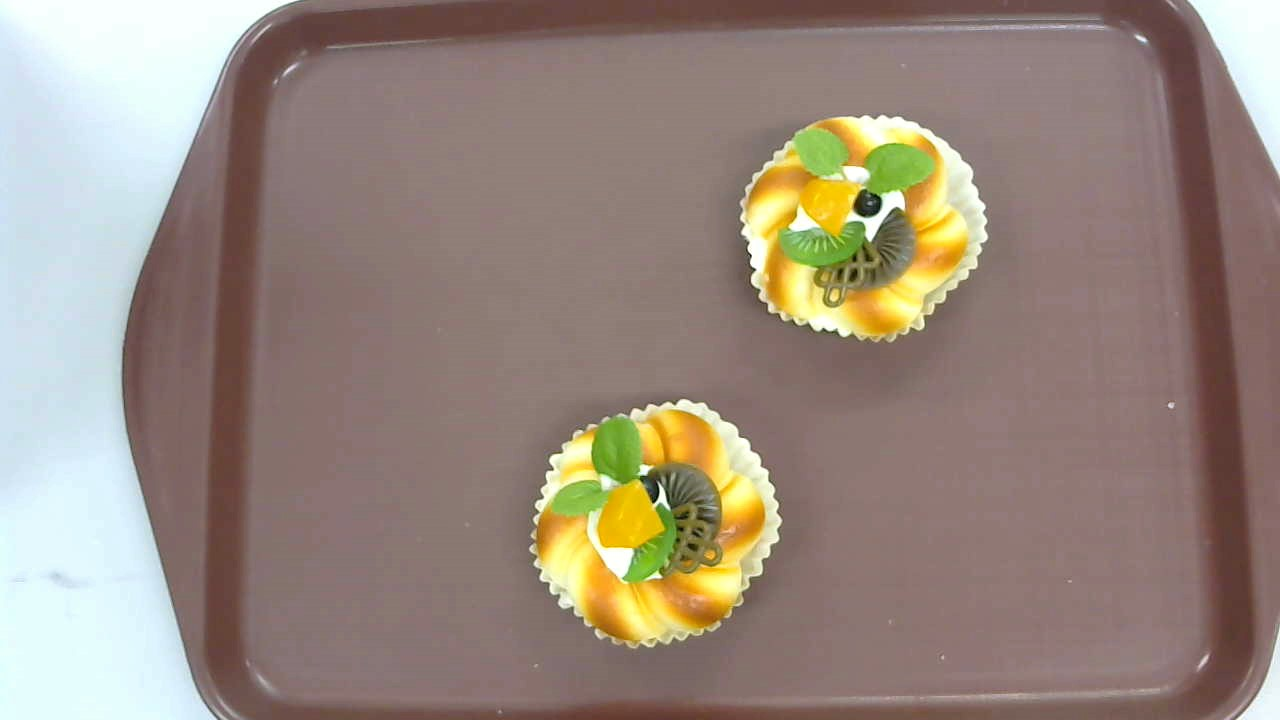fruit tart: (528, 399, 783, 649), (739, 115, 990, 346)
